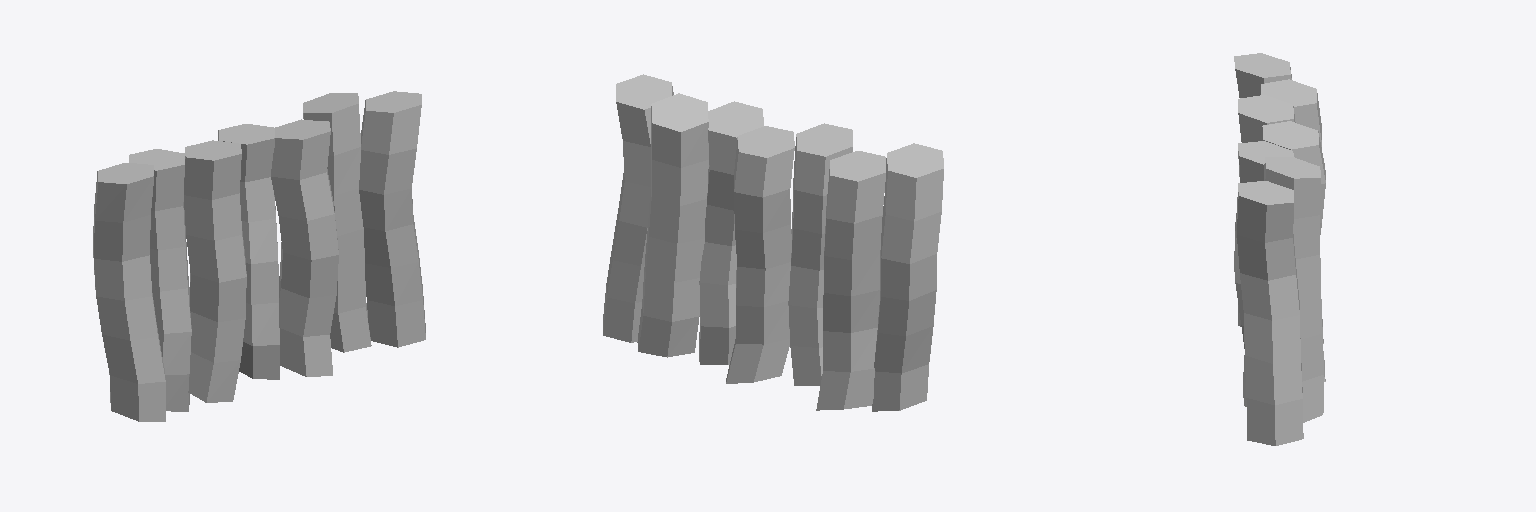
File: Wall.obj
The picture shows the model from 3 angles: view 1: azimuth 30°, elevation 25°; view 2: azimuth 150°, elevation 25°; view 3: azimuth 270°, elevation 25°; orthographic projection.
Visible parts, largest first — view 1: group[number redacted], group[number redacted], group[number redacted], group[number redacted], group[number redacted], group[number redacted], group[number redacted]; view 2: group[number redacted], group[number redacted], group[number redacted], group[number redacted], group[number redacted], group[number redacted], group[number redacted]; view 3: group[number redacted], group[number redacted], group[number redacted], group[number redacted], group[number redacted], group[number redacted], group[number redacted].
Part boxes in pixels (left/top/right/bottom): group[number redacted]: left=93, top=163, right=165, bottom=421; group[number redacted]: left=271, top=119, right=338, bottom=376; group[number redacted]: left=184, top=140, right=246, bottom=402; group[number redacted]: left=359, top=91, right=425, bottom=347; group[number redacted]: left=218, top=124, right=279, bottom=379; group[number redacted]: left=129, top=149, right=191, bottom=411; group[number redacted]: left=303, top=93, right=371, bottom=352; group[number redacted]: left=637, top=93, right=708, bottom=357; group[number redacted]: left=872, top=143, right=943, bottom=411; group[number redacted]: left=816, top=151, right=885, bottom=410; group[number redacted]: left=726, top=126, right=794, bottom=383; group[number redacted]: left=788, top=123, right=852, bottom=385; group[number redacted]: left=603, top=74, right=673, bottom=342; group[number redacted]: left=699, top=101, right=763, bottom=364; group[number redacted]: left=1236, top=181, right=1303, bottom=445; group[number redacted]: left=1264, top=157, right=1323, bottom=422; group[number redacted]: left=1262, top=121, right=1325, bottom=381; group[number redacted]: left=1234, top=141, right=1293, bottom=406; group[number redacted]: left=1238, top=95, right=1295, bottom=142; group[number redacted]: left=1234, top=53, right=1291, bottom=326; group[number redacted]: left=1261, top=79, right=1323, bottom=343.
Bounding box in the file's own units: 0.595 × 0.4559 × 0.1416.